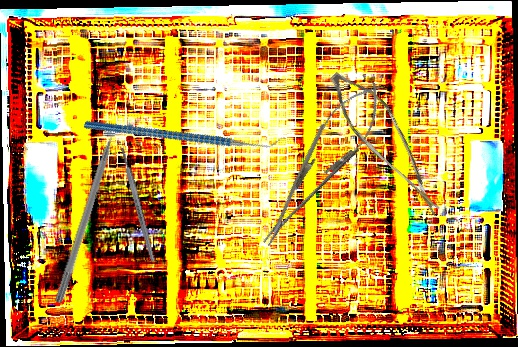Chopper: (82, 55, 287, 209)
Micro Scissor: (308, 64, 470, 217)
Needle Holder: (246, 71, 396, 257)
Pusher: (53, 109, 127, 306)
Scalpel Handle: (118, 147, 157, 262)
